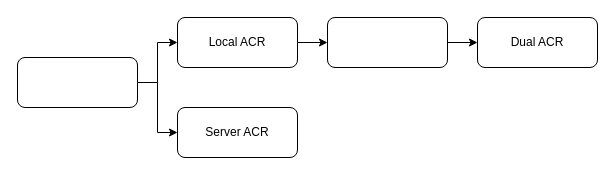
Some shapes in this 615 by 175 pixel diagram are drawn without their labels. The centre of each missing label's shape, as x and y in pixels:
"AudioCaptureClient" goes at (x=77, y=82).
"Split ACR" goes at (x=387, y=42).
